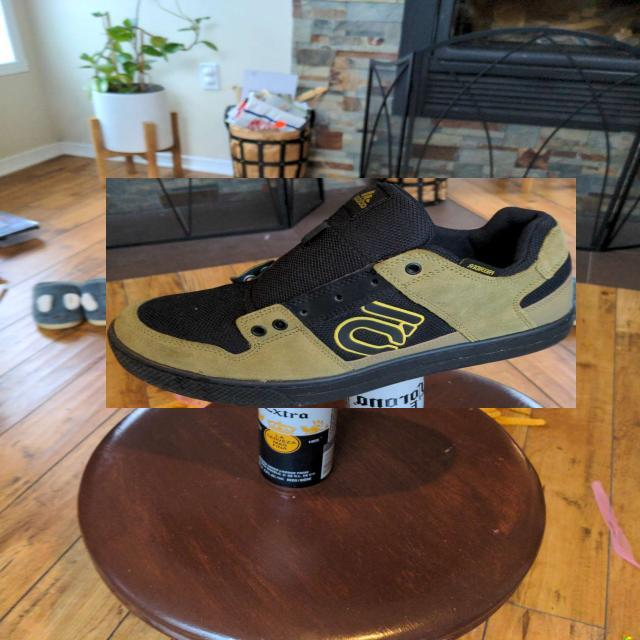shoe: (106, 178, 576, 408)
